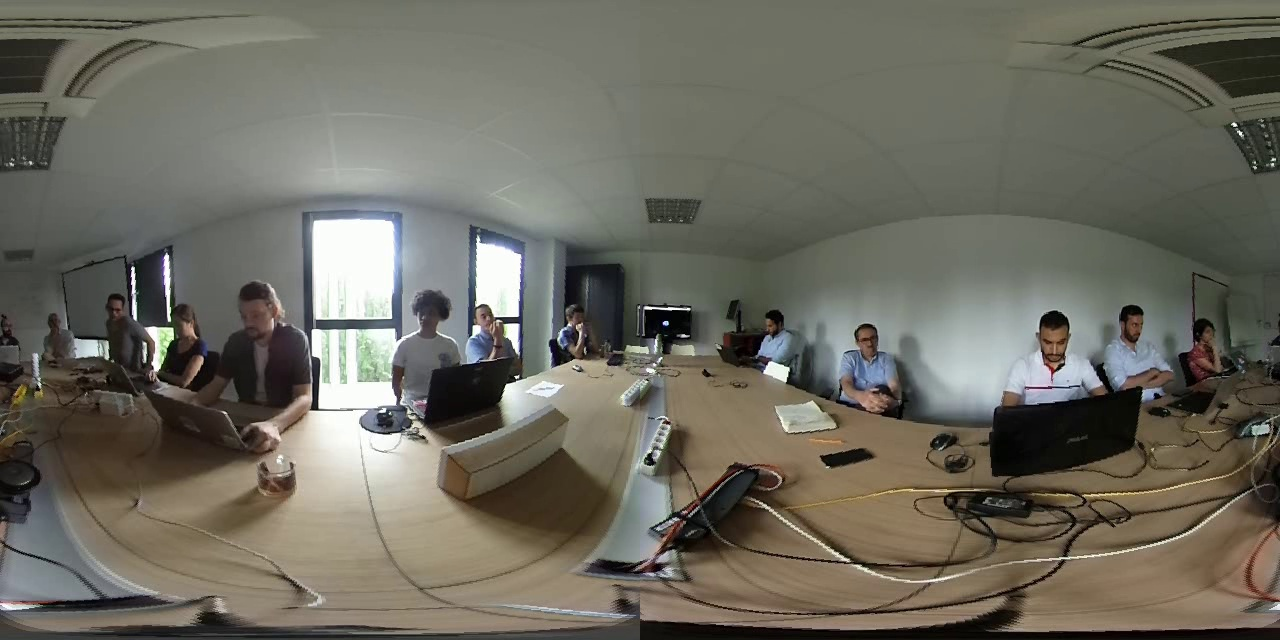person: (213, 271, 317, 441), (995, 306, 1102, 404), (832, 313, 908, 421), (382, 279, 462, 380), (1104, 294, 1173, 403), (94, 280, 158, 379), (156, 294, 213, 389), (465, 292, 529, 370), (749, 300, 811, 379), (1180, 307, 1240, 385), (546, 292, 604, 368), (35, 301, 83, 365), (1, 306, 32, 355)
